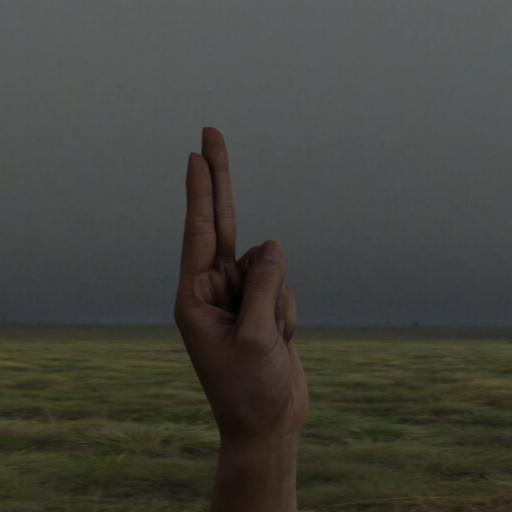U: (156, 116, 326, 508)
